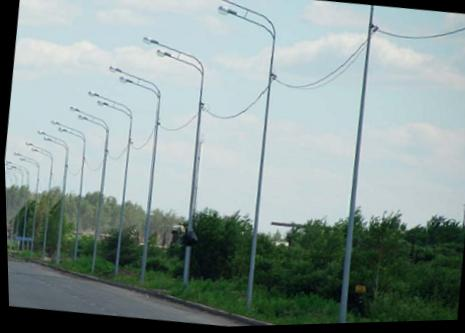Animal: (159, 0, 313, 325), (110, 28, 246, 313), (82, 57, 199, 283), (317, 5, 388, 326), (61, 81, 160, 275), (48, 90, 127, 262), (30, 111, 103, 269), (9, 115, 80, 256), (3, 134, 61, 251)
